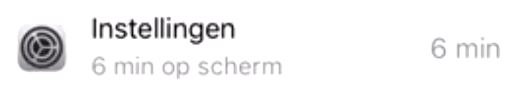name: (82, 12, 246, 45)
time: (88, 51, 160, 80)
